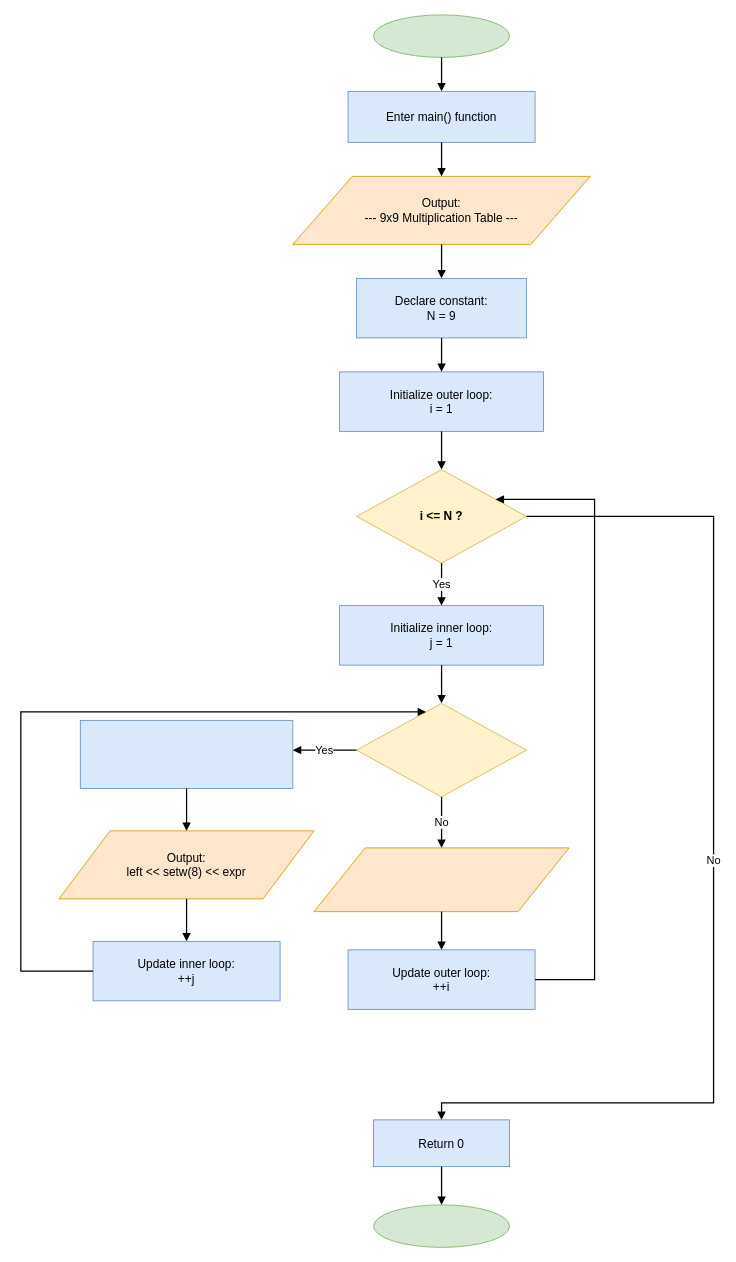
This 736x1262 diagram has some shape labels left out. The box of each missing label's shape, as (x1, y1, x2, y2) in pixels:
Create expression: expr = i x j = i * j: (79, 720, 293, 788)
End: (373, 1204, 510, 1247)
j <= N ?: (356, 703, 527, 797)
Output: endl: (313, 847, 569, 912)
Start: (373, 14, 510, 57)
